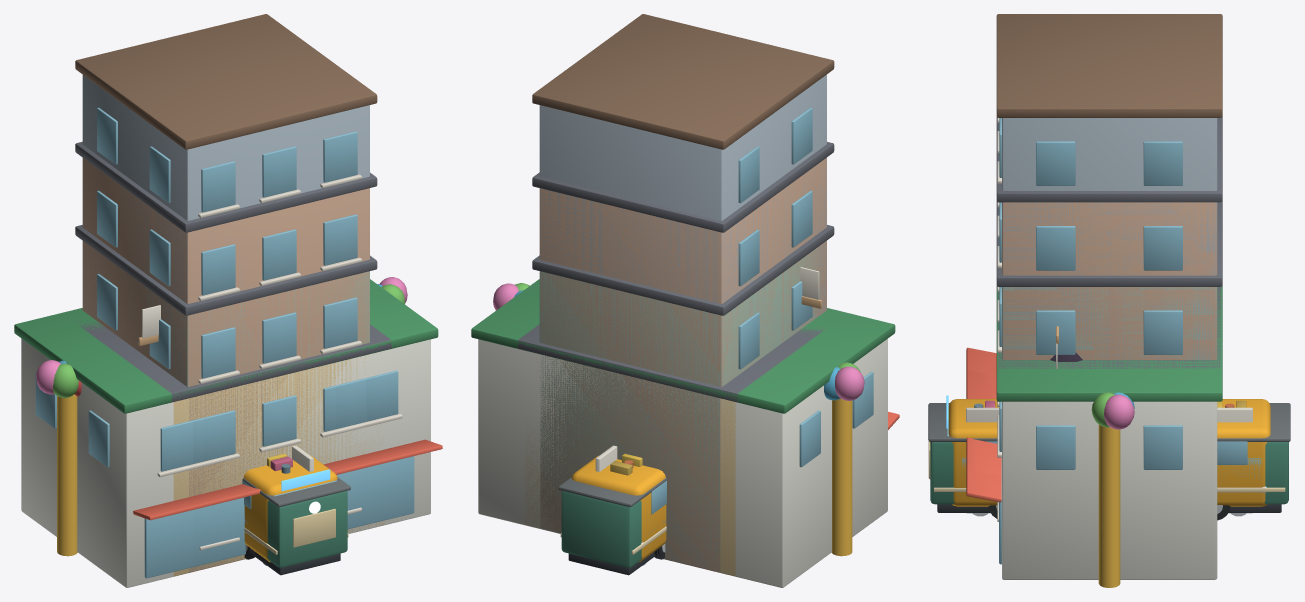
Rendered from props.glb.
The picture shows the model from 3 angles, left to right: view 1: azimuth 30°, elevation 25°; view 2: azimuth 150°, elevation 25°; view 3: azimuth 270°, elevation 25°; orthographic projection.
Parts seen in each view (by area): view 1: p_market_front, p_bld_a, p_bld_c, p_bld_d, p_bld_b, p_wagon, p_finish_arch, p_bus, p_shelf, blades; view 2: p_bld_a, p_bld_c, p_market_front, p_bld_b, p_bld_d, p_wagon, p_finish_arch, p_bus, p_shelf, blades; view 3: p_bld_c, p_market_front, p_bld_a, p_bld_b, p_bus, p_wagon, p_finish_arch, p_bld_d, p_shelf.
Boxes of the visible parts, bbox=[...] form: p_market_front: bbox=[14, 279, 442, 587]; p_bld_a: bbox=[75, 141, 377, 572]; p_bld_c: bbox=[75, 14, 377, 570]; p_bld_d: bbox=[67, 311, 396, 576]; p_bld_b: bbox=[75, 225, 377, 571]; p_wagon: bbox=[242, 477, 350, 575]; p_finish_arch: bbox=[36, 277, 407, 556]; p_bus: bbox=[242, 455, 337, 562]; p_shelf: bbox=[267, 445, 313, 473]; blades: bbox=[138, 305, 160, 346]; p_bld_a: bbox=[532, 142, 834, 572]; p_bld_c: bbox=[532, 14, 834, 569]; p_market_front: bbox=[471, 279, 899, 587]; p_bld_b: bbox=[532, 225, 834, 571]; p_bld_d: bbox=[518, 310, 837, 576]; p_wagon: bbox=[558, 477, 666, 575]; p_finish_arch: bbox=[493, 283, 864, 556]; p_bus: bbox=[571, 455, 666, 562]; p_shelf: bbox=[595, 445, 642, 475]; blades: bbox=[800, 267, 821, 308]; p_bld_c: bbox=[996, 14, 1222, 359]; p_market_front: bbox=[966, 286, 1222, 579]; p_bld_a: bbox=[996, 116, 1222, 521]; p_bld_b: bbox=[996, 201, 1222, 359]; p_bus: bbox=[946, 395, 1270, 520]; p_wagon: bbox=[928, 403, 1290, 516]; p_finish_arch: bbox=[1091, 392, 1134, 587]; p_bld_d: bbox=[966, 286, 1222, 476]; p_shelf: bbox=[966, 400, 1252, 513].
Size of the model in its own units: 12.03 by 14.52 by 10.11.
